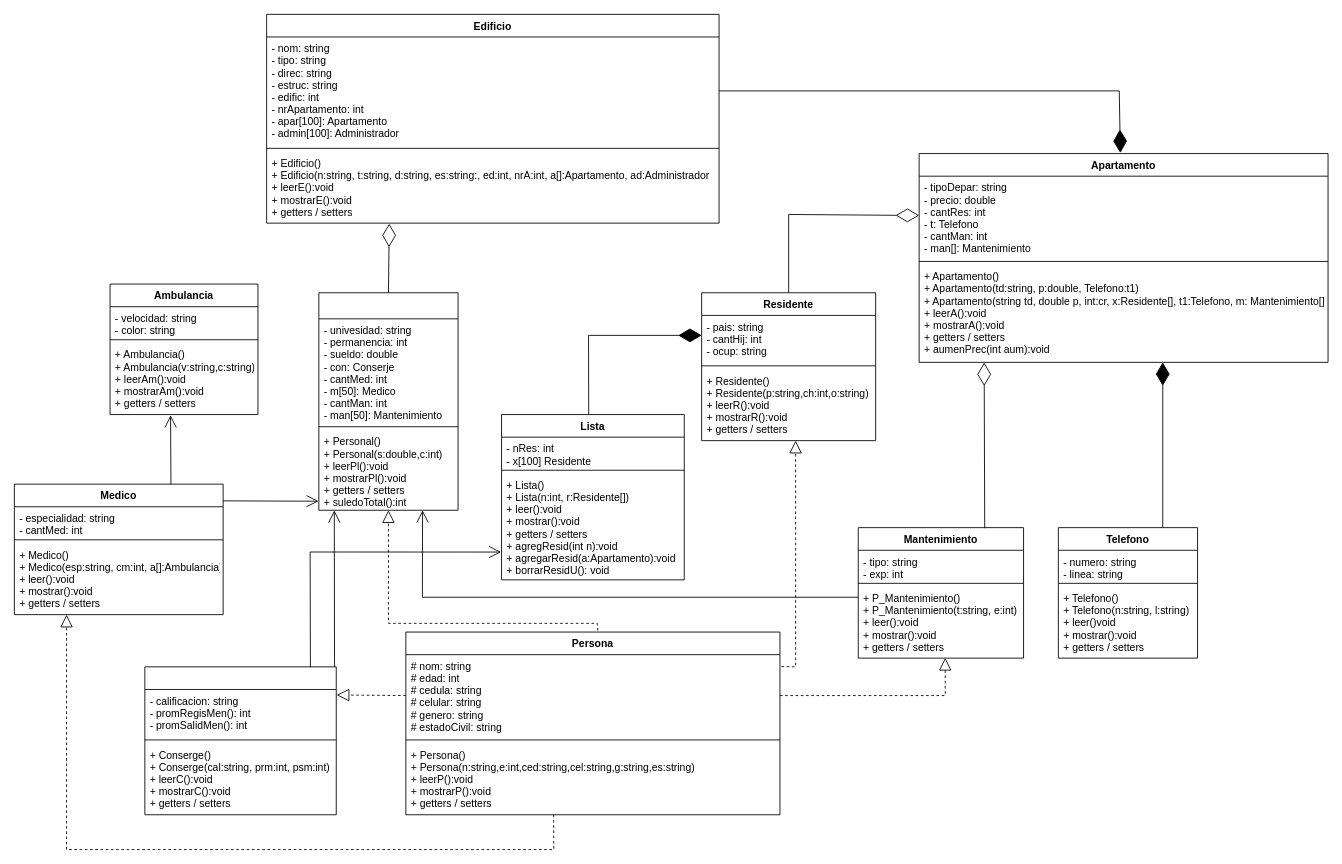
This 1342x864 diagram has some shape labels left out. Each missing label, with the box of its shape:
Administrador: (318, 292, 458, 510)
Conserje: (144, 666, 336, 815)
